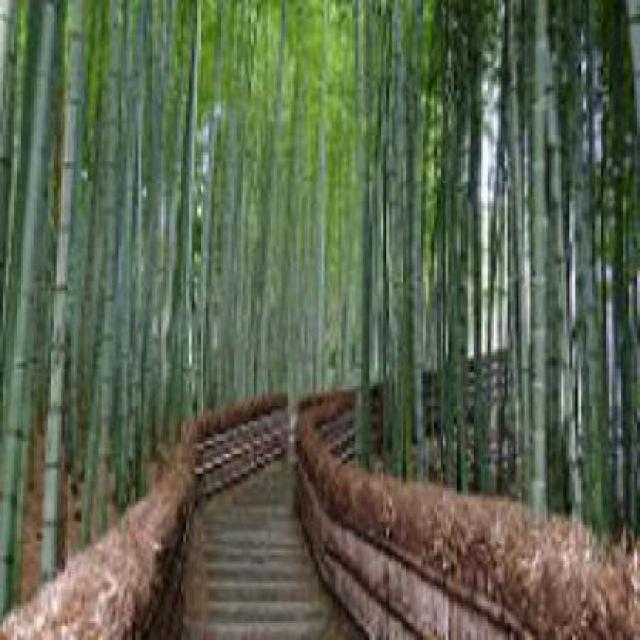stair: (166, 474, 369, 634)
